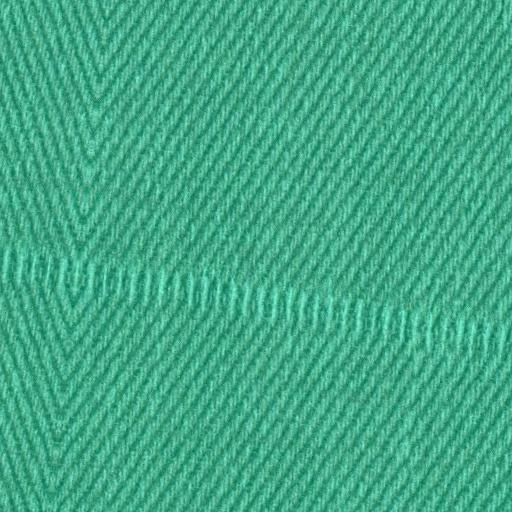slub: (0, 243, 512, 369)
